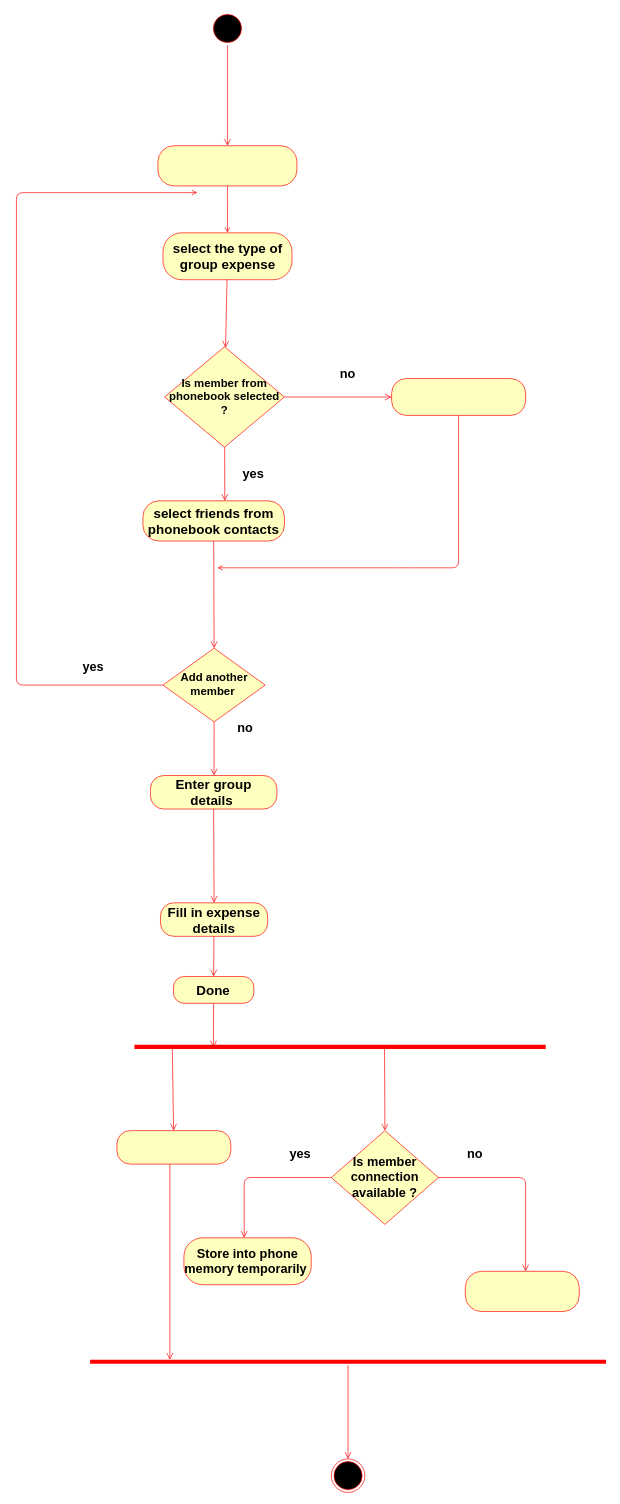
Image size: 620x1504. Some labels were removed from this diagram. Each missing label, with the centre of its shape:
"Add details of new members manually" goes at point (458, 396).
"Request for new group expense" goes at point (227, 165).
"SEND NOTIFICATIONS" goes at point (173, 1147).
"Sync and update database" goes at point (522, 1291).
